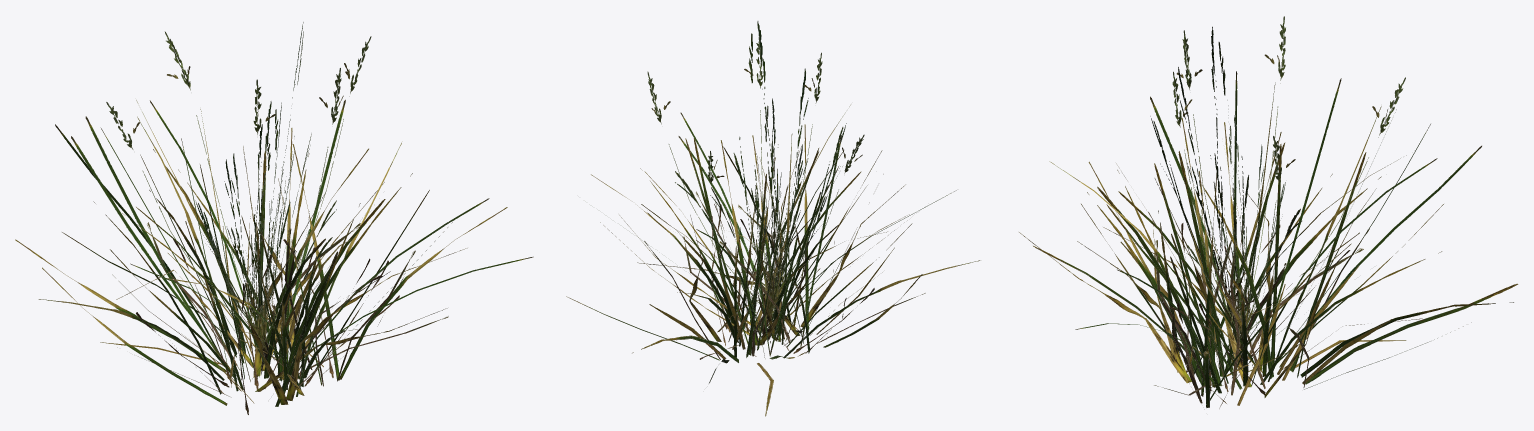
The model's file is GrassClumpMedDetail.fbx.
3 views of the same model, side by side, from view 1: azimuth 30°, elevation 25°; view 2: azimuth 150°, elevation 25°; view 3: azimuth 270°, elevation 25° (orthographic). The views are drawn at different scales.
Visible parts, largest first — view 1: _dvdr_VarA_LOD3; view 2: _dvdr_VarA_LOD3; view 3: _dvdr_VarA_LOD3.
Part boxes in pixels (x1,y1,x2,y2): _dvdr_VarA_LOD3: (15,22,533,414); _dvdr_VarA_LOD3: (566,21,980,416); _dvdr_VarA_LOD3: (1019,16,1518,409).
Bounding box in the file's own units: 53.09 × 40.96 × 49.04.
